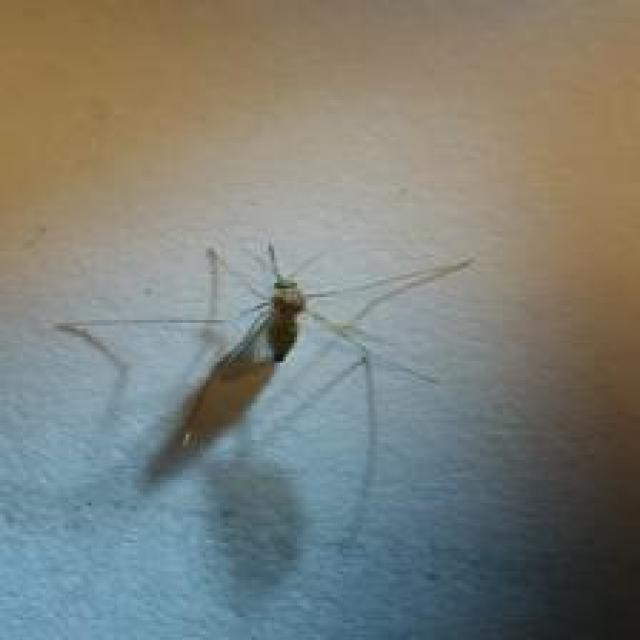Culex: (53, 236, 476, 498)
